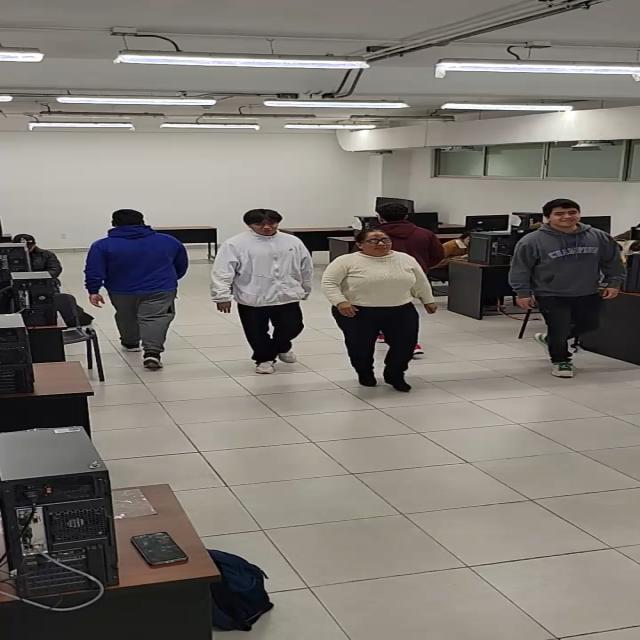Persona: (513, 199, 623, 376), (214, 208, 312, 372), (320, 230, 418, 392), (85, 208, 178, 370), (366, 206, 442, 264)
